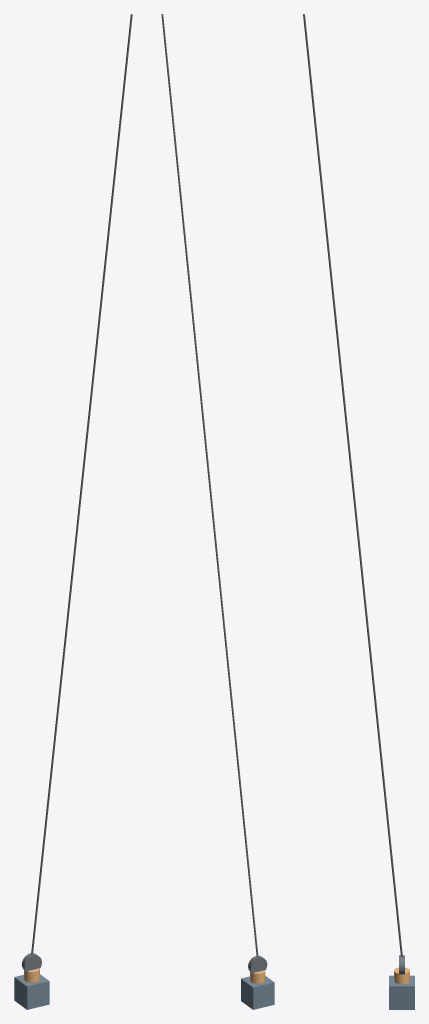
The model's file is deadline.glb.
3 renders of one model, left to right at view 1: azimuth 30°, elevation 25°; view 2: azimuth 210°, elevation 25°; view 3: azimuth 270°, elevation 25°, orthographic. The views are drawn at different scales.
Size of the model in its own units: 2.53 by 38.85 by 3.88.
